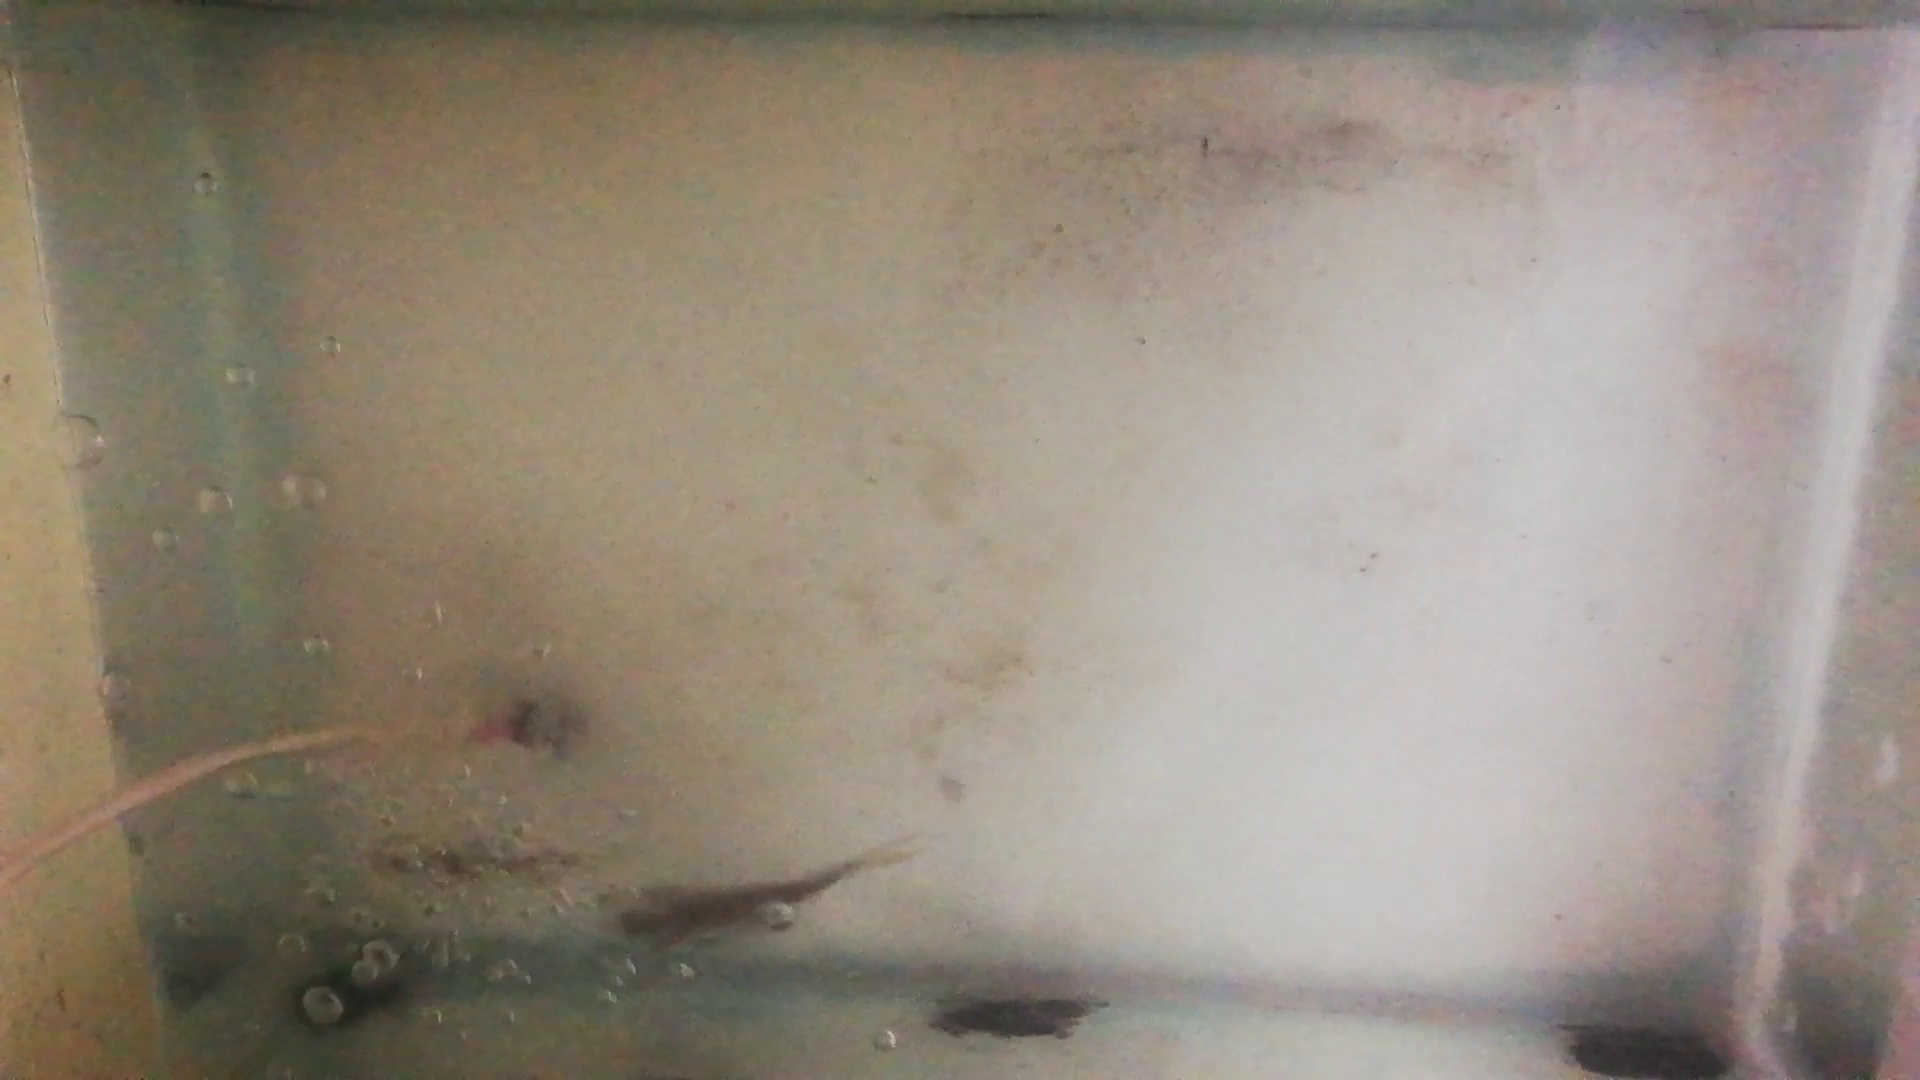fish: (626, 864, 848, 942), (372, 836, 562, 882)
